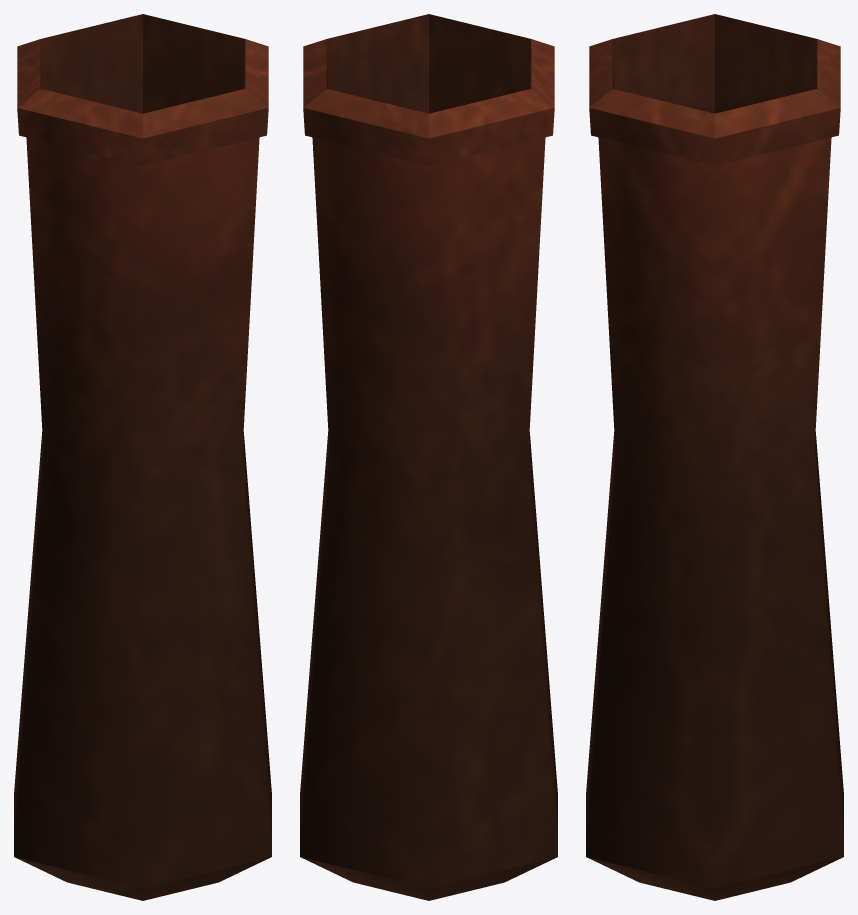
File: Quiver.FBX
The picture shows the model from 3 angles, left to right: view 1: azimuth 30°, elevation 25°; view 2: azimuth 150°, elevation 25°; view 3: azimuth 270°, elevation 25°; orthographic projection.
Visible parts, largest first — view 1: Quiver; view 2: Quiver; view 3: Quiver.
Part boxes in pixels (x1,y1,x2,y2): Quiver: [14, 14, 271, 900]; Quiver: [300, 14, 557, 900]; Quiver: [586, 14, 843, 900].
Bounding box in the file's own units: 18.97 × 57.86 × 16.43.
